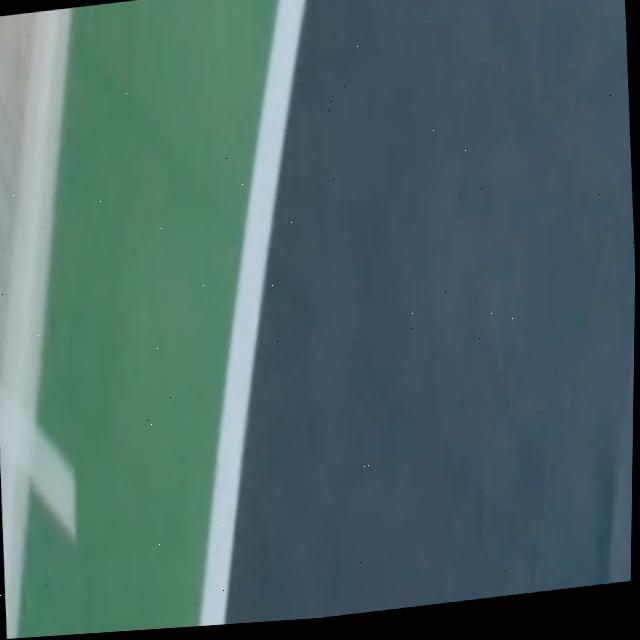right: (201, 0, 307, 626)
